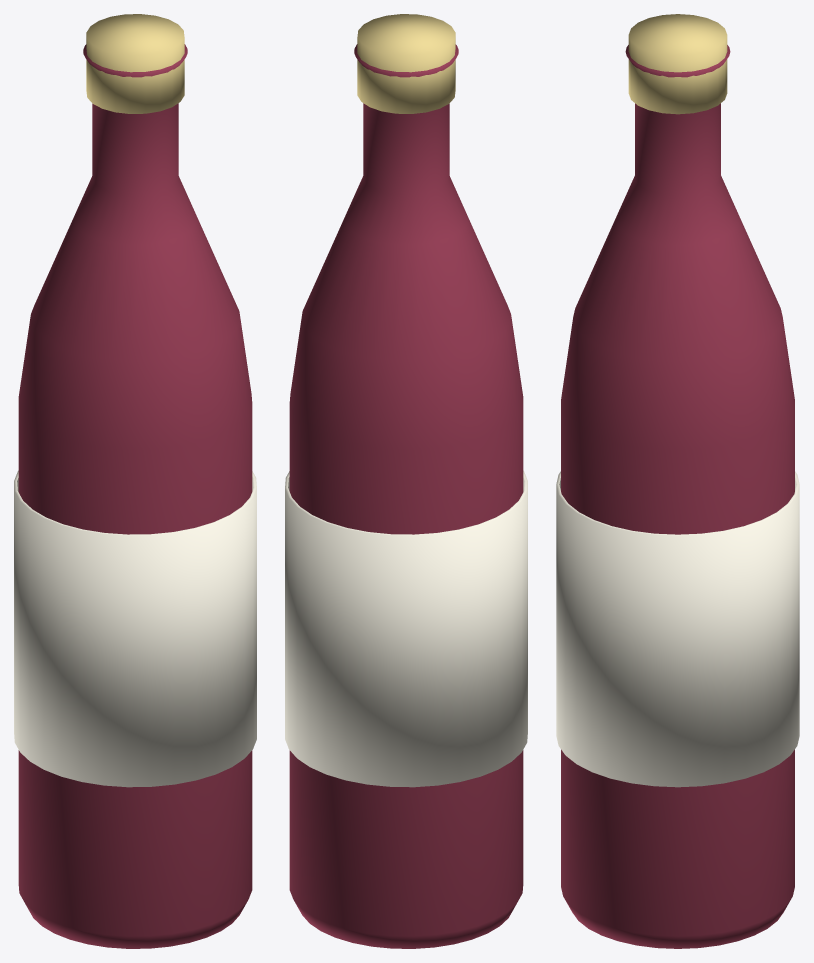
The model's file is bottle_wine.glb.
3 views of the same model, side by side, from view 1: azimuth 30°, elevation 25°; view 2: azimuth 150°, elevation 25°; view 3: azimuth 270°, elevation 25° (orthographic).
Visible parts, largest first — view 1: bottle_wine; view 2: bottle_wine; view 3: bottle_wine.
Boxes of the visible parts, box(x1,y1,x2,y2) form: bottle_wine: box(14, 14, 256, 948); bottle_wine: box(285, 14, 527, 948); bottle_wine: box(556, 14, 799, 948).
Bounding box in the file's own units: 0.079 × 0.313 × 0.079.
